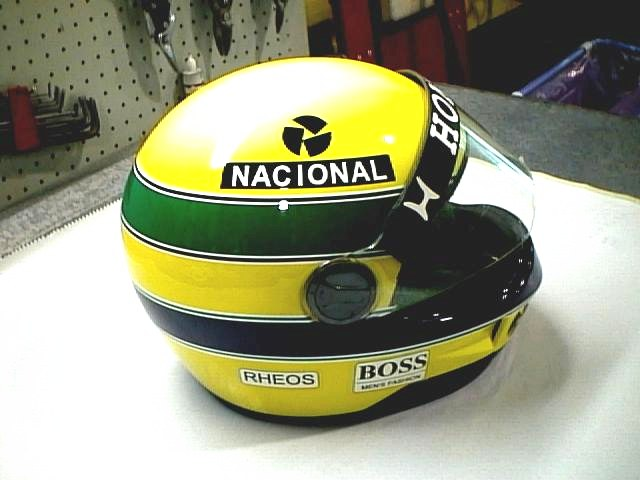helmet: (119, 57, 550, 433)
